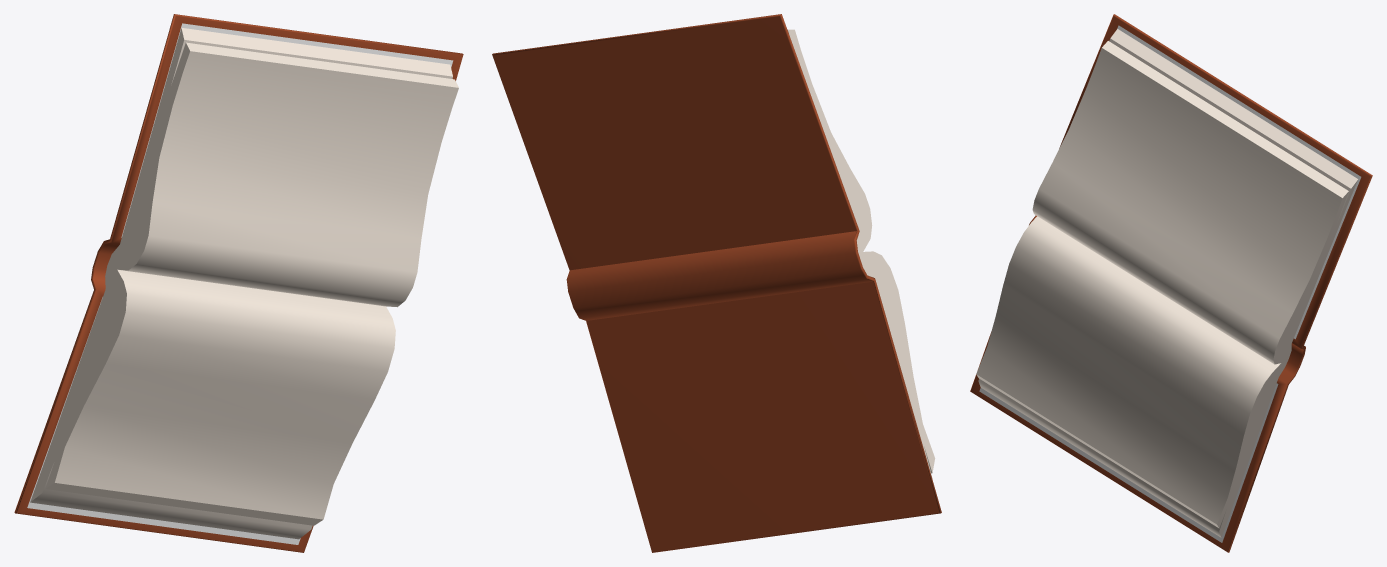
3 views of the same model, side by side, from view 1: azimuth 30°, elevation 25°; view 2: azimuth 150°, elevation 25°; view 3: azimuth 330°, elevation 25° (orthographic). The views are drawn at different scales.
Visible parts, largest first — view 1: Line02, Line01; view 2: Line01, Line02; view 3: Line02, Line01.
Boxes of the visible parts, left/top/right/bottom form: Line02: left=30, top=27, right=458, bottom=539; Line01: left=14, top=14, right=463, bottom=552; Line01: left=492, top=14, right=941, bottom=552; Line02: left=787, top=29, right=935, bottom=479; Line02: left=976, top=29, right=1358, bottom=537; Line01: left=970, top=14, right=1372, bottom=552.
Bounding box in the file's own units: 377 × 458 × 46.6.
